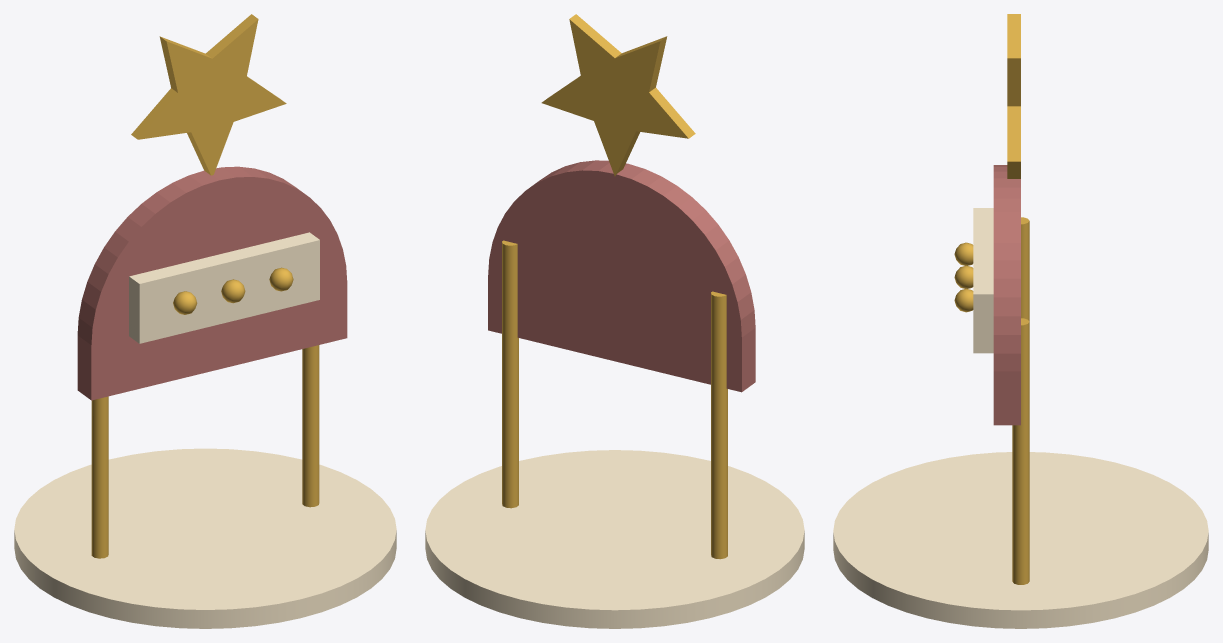
The model's file is parade.glb.
3 renders of one model, left to right at view 1: azimuth 30°, elevation 25°; view 2: azimuth 150°, elevation 25°; view 3: azimuth 270°, elevation 25°, orthographic.
Size of the model in its own units: 1.1 by 1.66 by 1.1.
